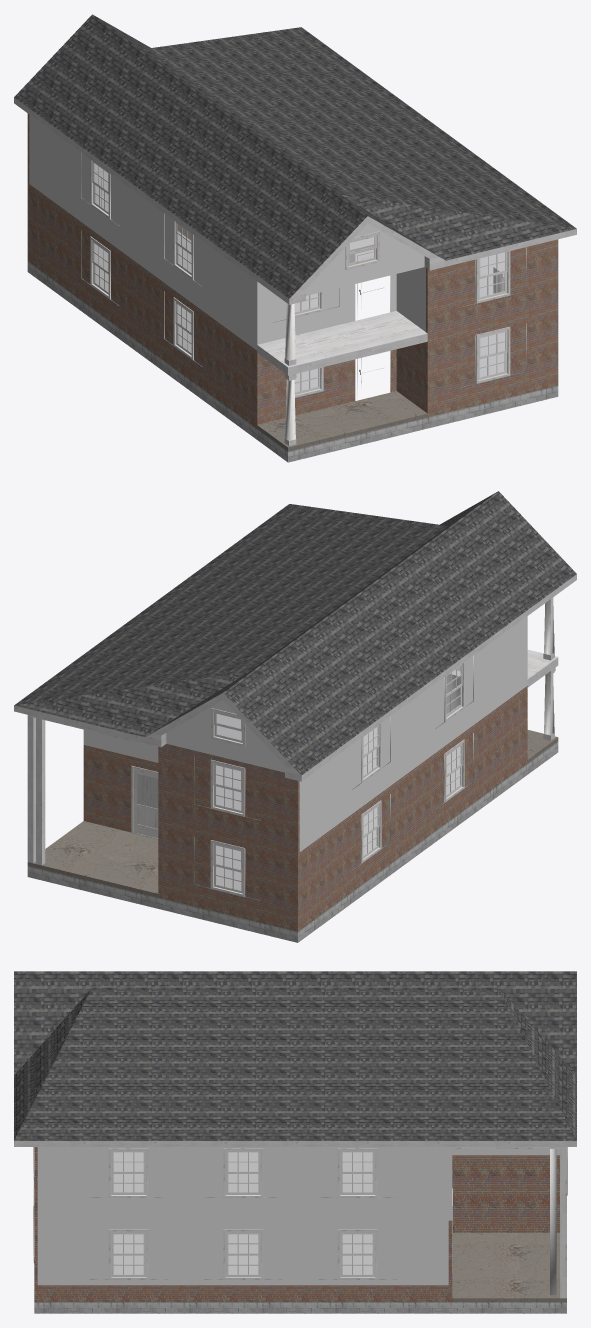
Rendered from brick_duplex.glb.
3 renders of one model, top to bottom at view 1: azimuth 30°, elevation 25°; view 2: azimuth 150°, elevation 25°; view 3: azimuth 270°, elevation 25°, orthographic. The views are drawn at different scales.
Visible parts, largest first — view 1: bld; view 2: bld; view 3: bld.
Boxes of the visible parts, left/top/right/bottom form: bld: left=14, top=14, right=576, bottom=462; bld: left=14, top=491, right=576, bottom=942; bld: left=14, top=971, right=576, bottom=1313.
Bounding box in the file's own units: 10.2 × 8.03 × 16.93.
Materials: 10 (6 with a texture image).
